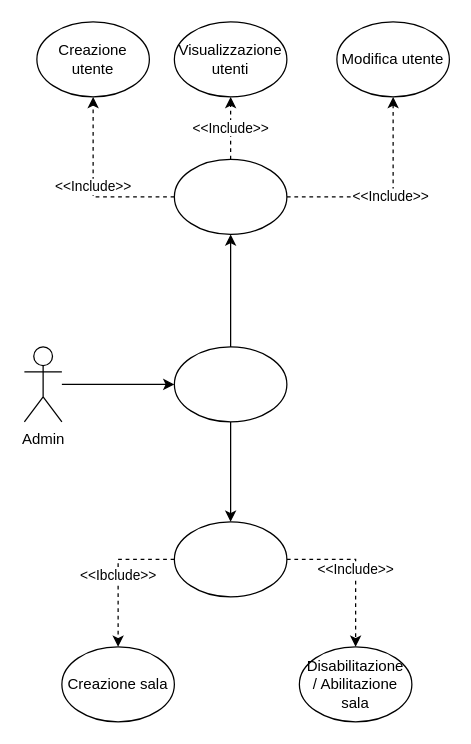
The diagram is 471 pixels wide and 744 high, and some of its shapes have lost their labels. The box of each missing label's shape, as (x1, y1, x2, y2) in pixels:
Gestione sala: (173, 521, 287, 597)
Gestione utente: (173, 158, 287, 234)
Login: (173, 346, 287, 422)
